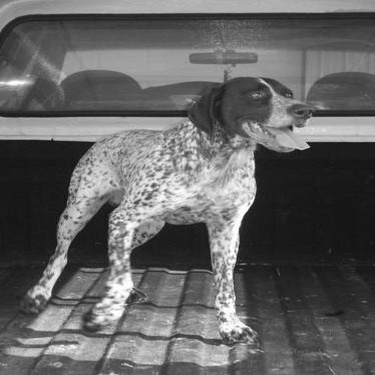dog: (18, 73, 318, 352)
